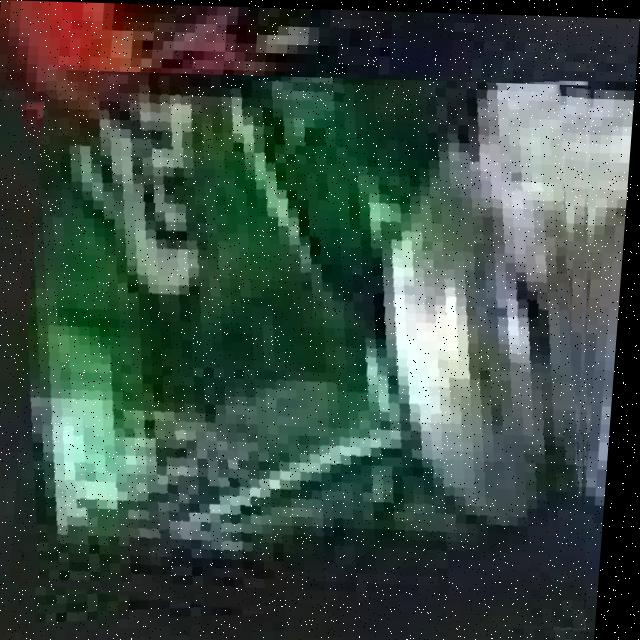can: (28, 70, 589, 624)
